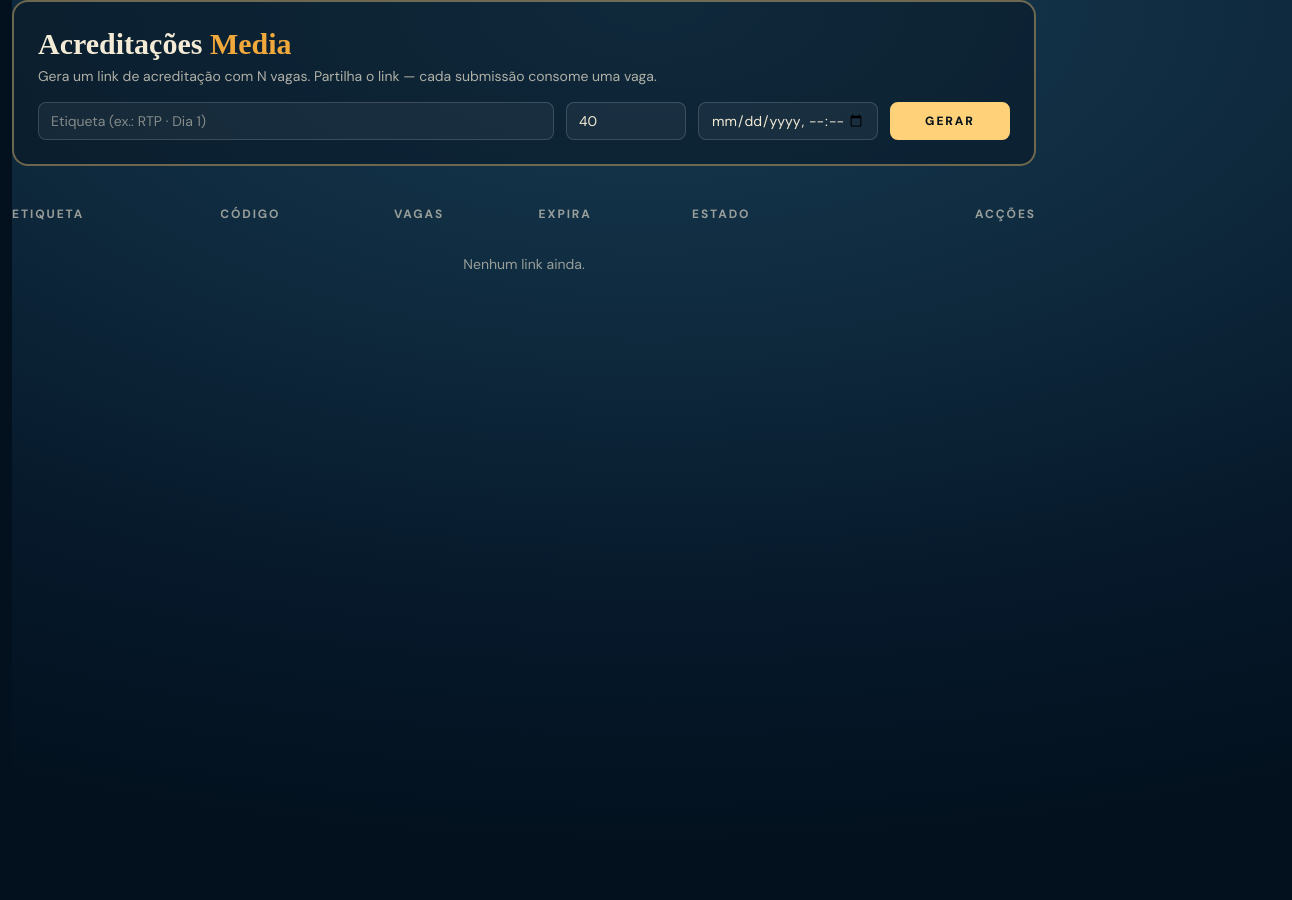
Test: AcreditacoesPanel › create: max_uses inválido → erro client-side
Replace the text in the number field named "Número de acreditações" with "9999" at [626, 121], box [566,102,686,140]
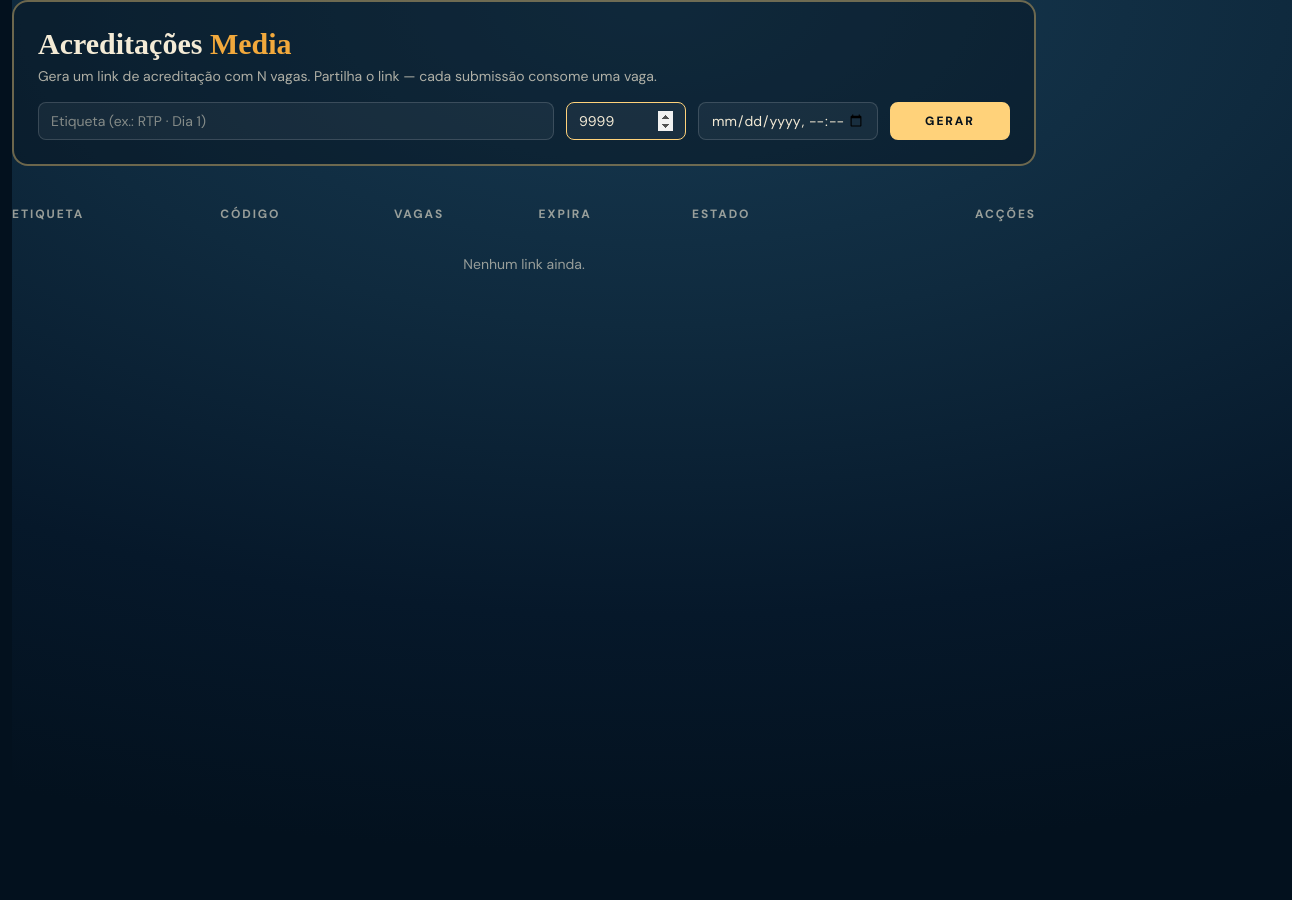
Click the button "Gerar" at [950, 121], box [890,102,1010,140]
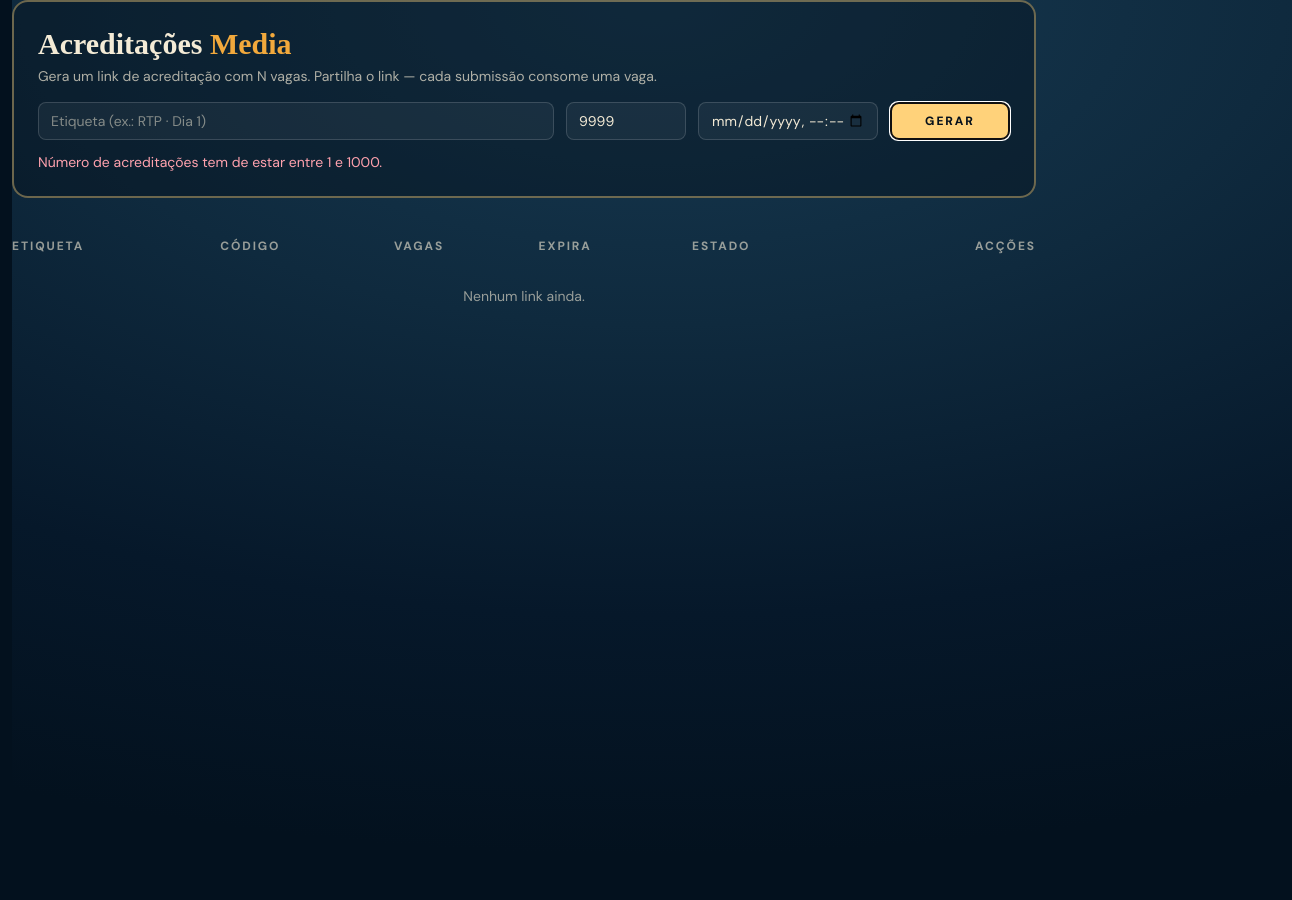
Now the message shows "entre 1 e 1000", box [38,153,382,171]
